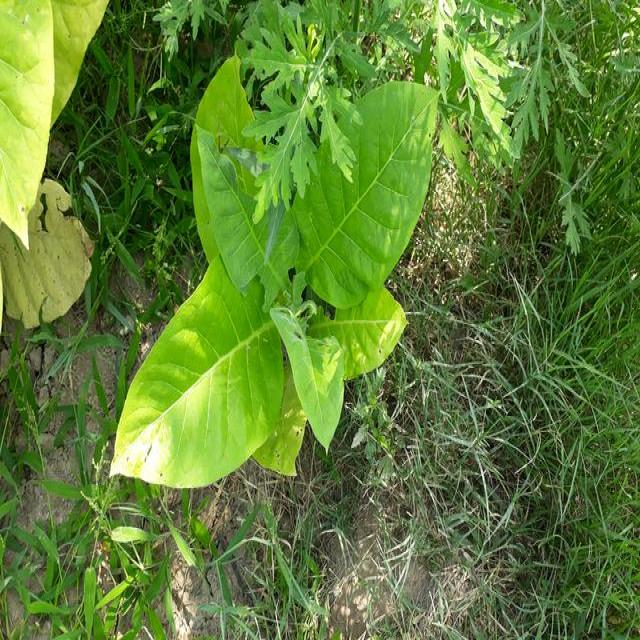crop: (118, 43, 438, 484), (0, 0, 115, 324)
